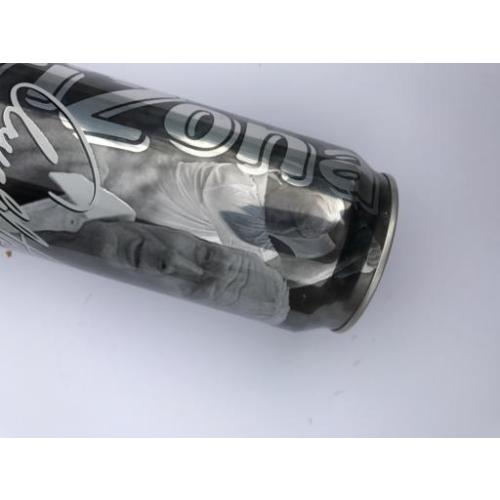metal: (0, 60, 399, 332)
